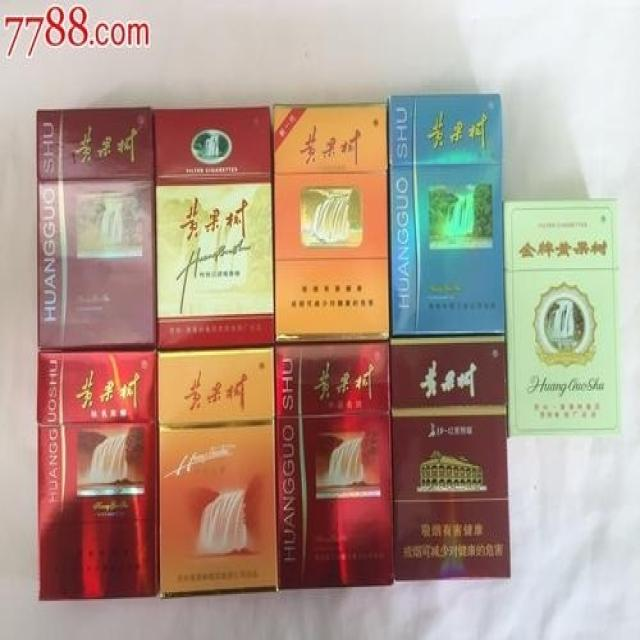box: (157, 343, 279, 597), (36, 350, 159, 601), (275, 340, 396, 591), (151, 106, 275, 350), (384, 94, 506, 335), (392, 333, 511, 580), (36, 108, 156, 350), (273, 104, 390, 343), (504, 200, 622, 435)
